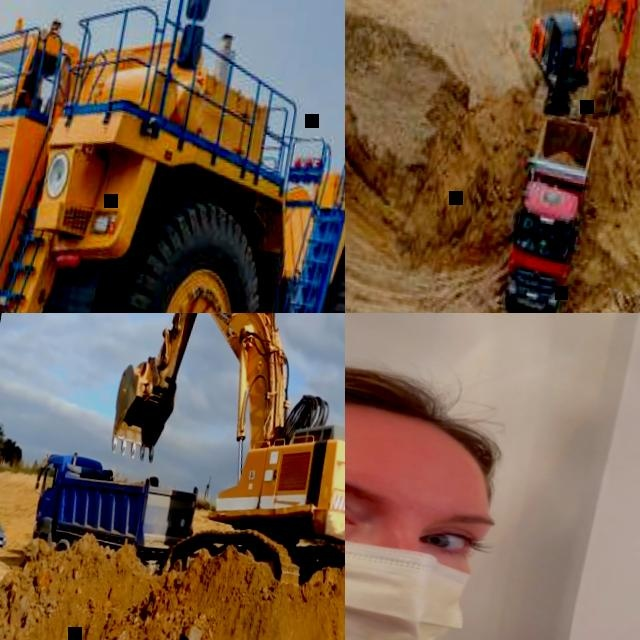Mask: (345, 478, 484, 640)
NO-Hardhat: (345, 336, 504, 483)
Person: (345, 317, 640, 640)
machinery: (0, 0, 345, 313), (93, 313, 345, 607), (492, 104, 606, 313), (26, 447, 203, 574), (519, 0, 640, 126)
vehicle: (0, 513, 10, 548)
